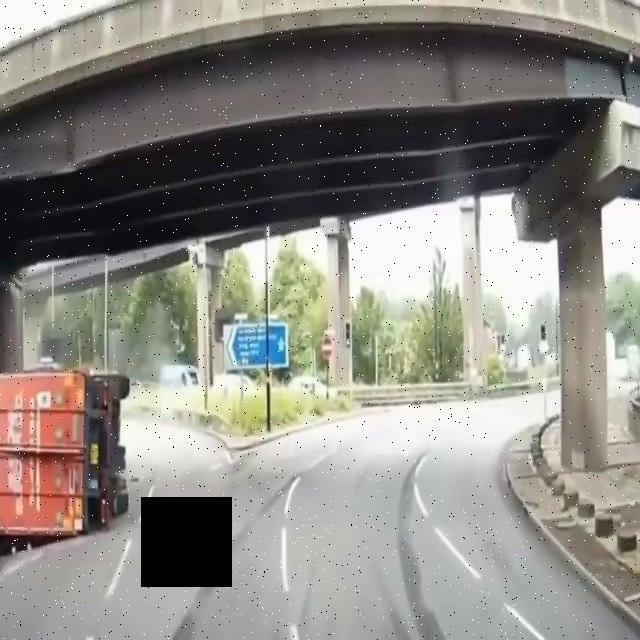accident: (1, 349, 134, 548)
